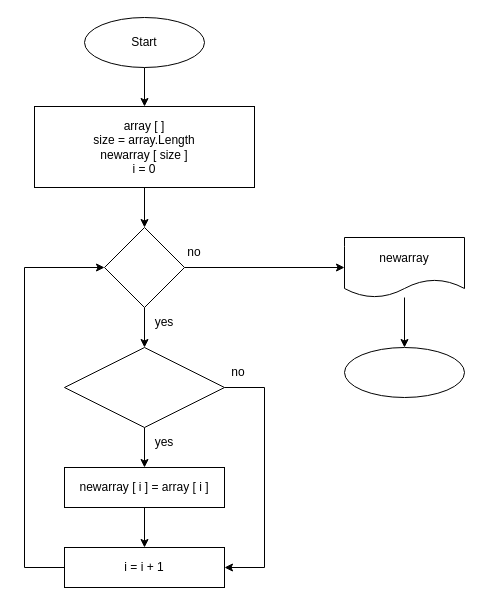
This 482x605 diagram has some shape labels left out. The shapes that lost their labels are listed below. From the top down, each one's box as (x1, y1, x2, y2) in pixels, then its label:
(104, 226, 184, 308): i < size
(64, 346, 224, 428): array [ i ] . Length <= 3
(344, 346, 464, 398): End
